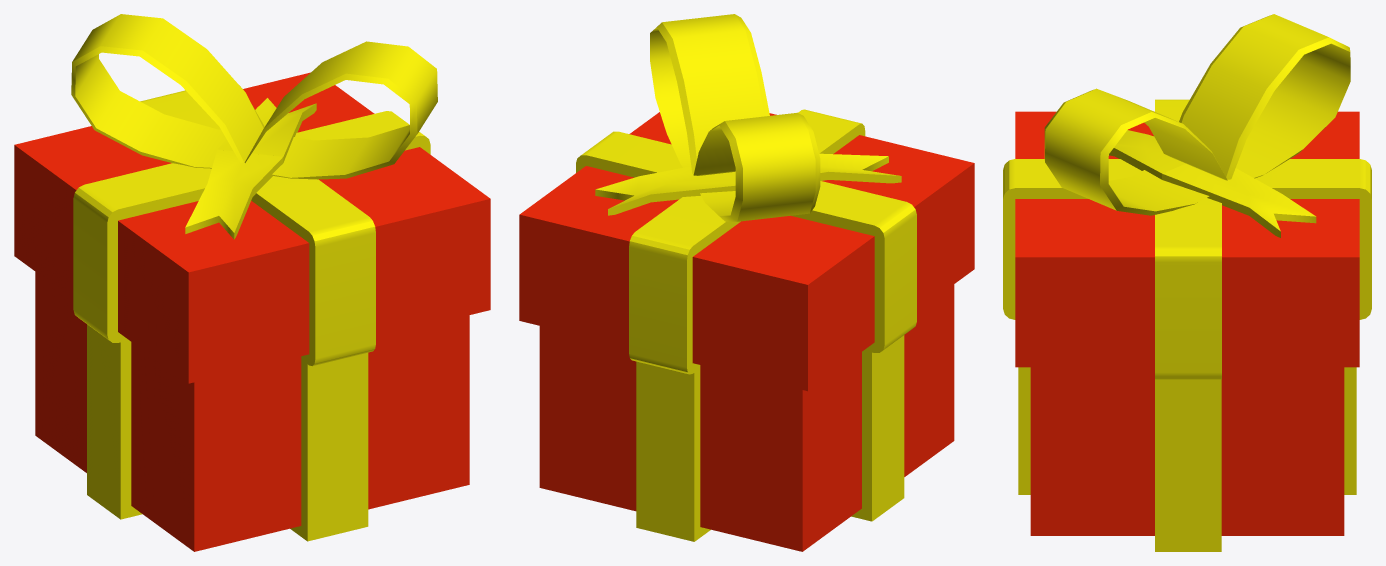
The model's file is Monster.fbx.
3 renders of one model, left to right at view 1: azimuth 30°, elevation 25°; view 2: azimuth 150°, elevation 25°; view 3: azimuth 270°, elevation 25°, orthographic. The views are drawn at different scales.
Visible parts, largest first — view 1: pCube3, pCube9; view 2: pCube3, pCube9; view 3: pCube3, pCube9.
Part boxes in pixels (bbox=[...]): pCube3: bbox=[14, 72, 490, 551]; pCube9: bbox=[71, 14, 437, 239]; pCube3: bbox=[519, 109, 974, 551]; pCube9: bbox=[595, 14, 901, 221]; pCube3: bbox=[1003, 99, 1371, 551]; pCube9: bbox=[1044, 14, 1350, 237].
Bounding box in the file's own units: 1.21 × 1.51 × 1.21.
